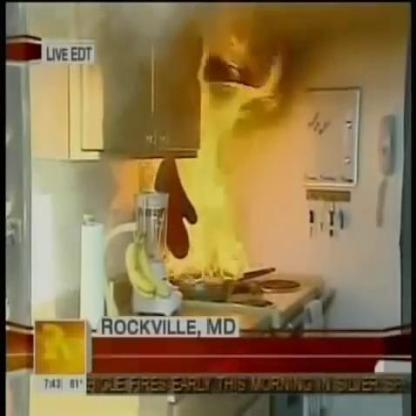fire: (141, 6, 286, 283)
